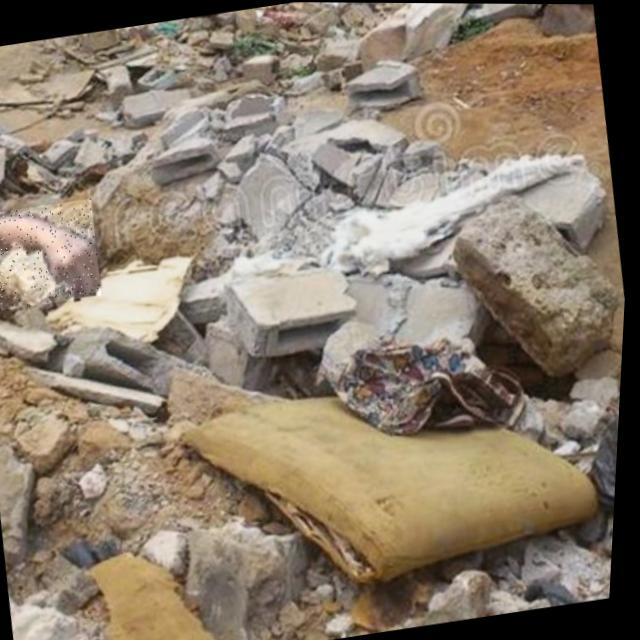Person in Rubble: (0, 197, 108, 312)
